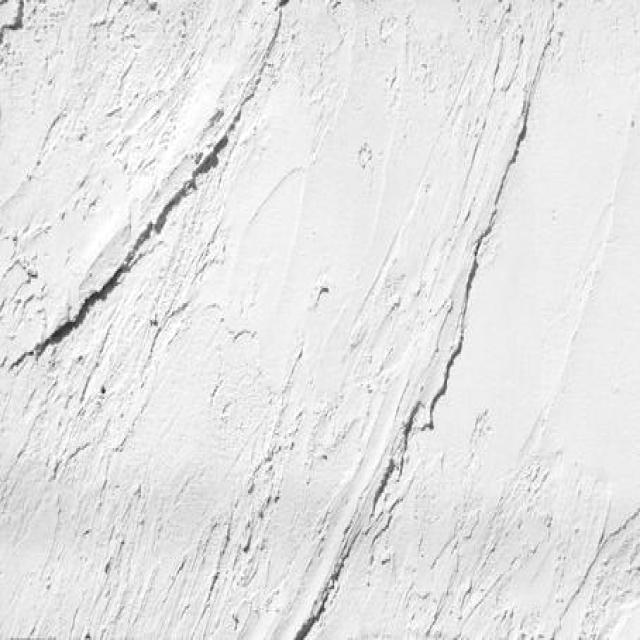trowels marks: (0, 0, 575, 640), (538, 470, 640, 640)
